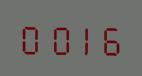one: (70, 19, 95, 56)
six: (96, 20, 121, 56)
zero: (18, 19, 43, 55), (44, 19, 69, 55)
